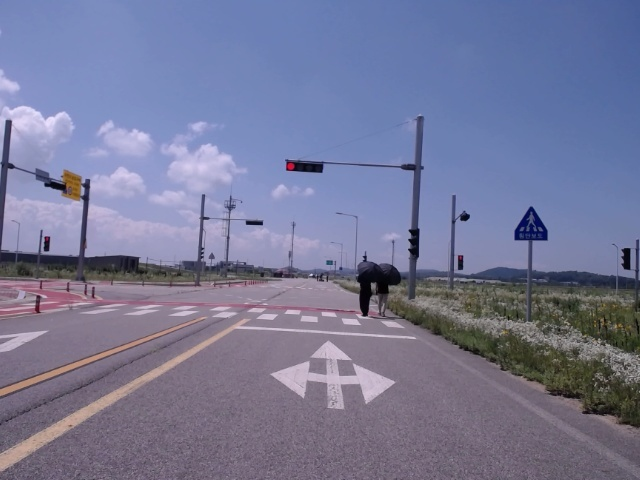red_4: (285, 162, 323, 173)
